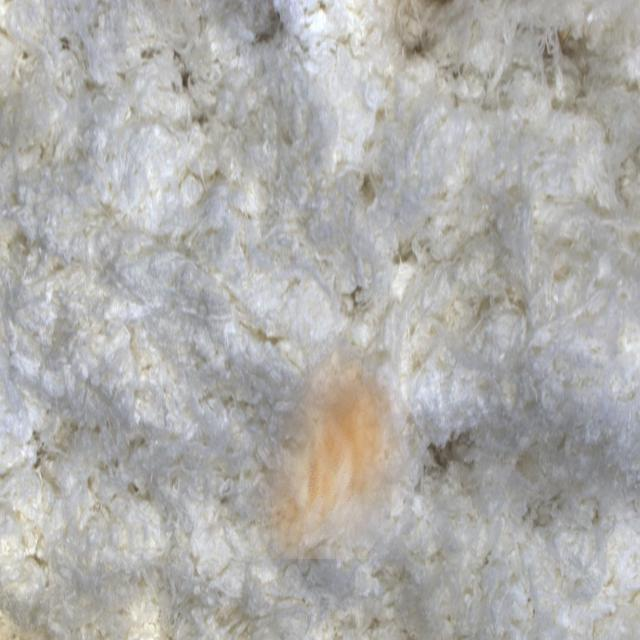dust: (249, 346, 424, 559)
